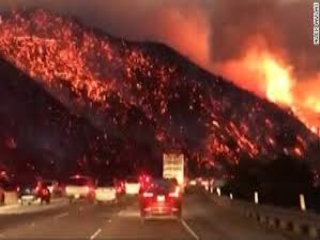fire: (231, 49, 320, 118)
